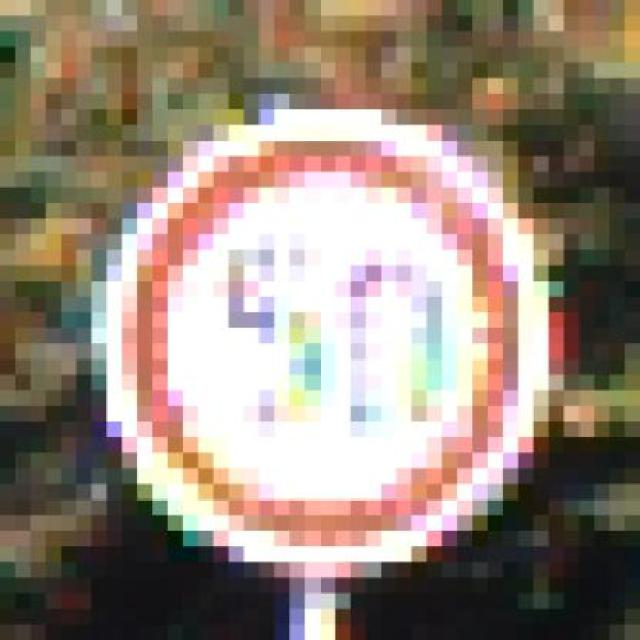50 mph speed limit: (70, 91, 618, 592)
